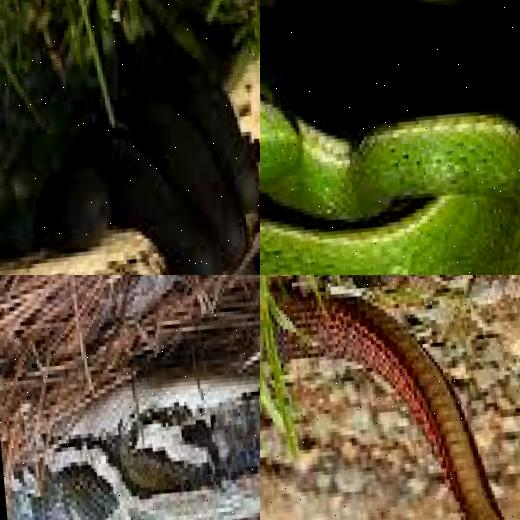snake: (0, 0, 260, 275), (260, 275, 520, 520), (260, 41, 520, 275), (0, 346, 260, 520)
